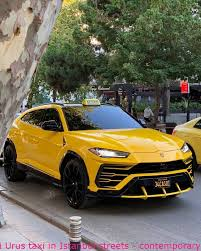Lamborghini: (23, 105, 175, 197)
